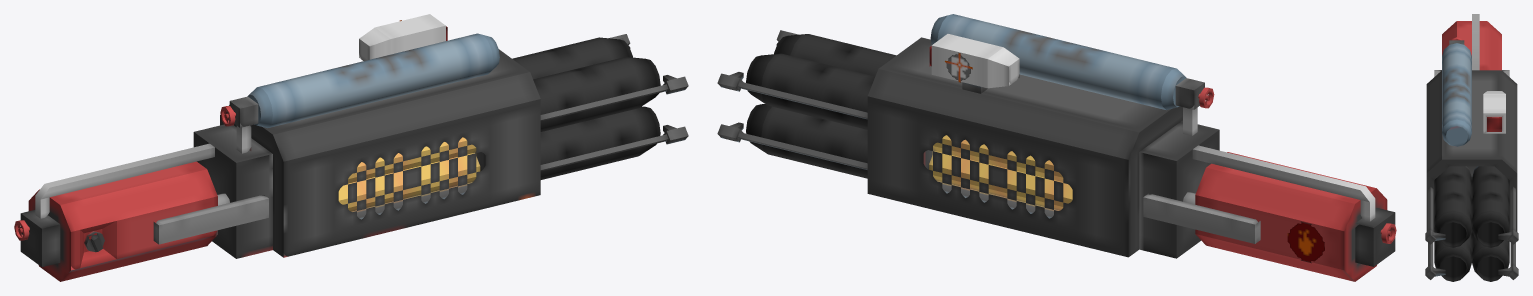
File: turret_fritz.obj
The picture shows the model from 3 angles, left to right: view 1: azimuth 30°, elevation 25°; view 2: azimuth 150°, elevation 25°; view 3: azimuth 270°, elevation 25°; orthographic projection. The views are drawn at different scales.
Parts seen in each view (by area): view 1: Gun; view 2: Gun; view 3: Gun.
Boxes of the visible parts, x1,y1,x2,y2 form: Gun: [14, 14, 688, 281]; Gun: [717, 14, 1396, 281]; Gun: [1425, 14, 1518, 281].
Size of the model in its own units: 4.31 by 1 by 0.7759.
